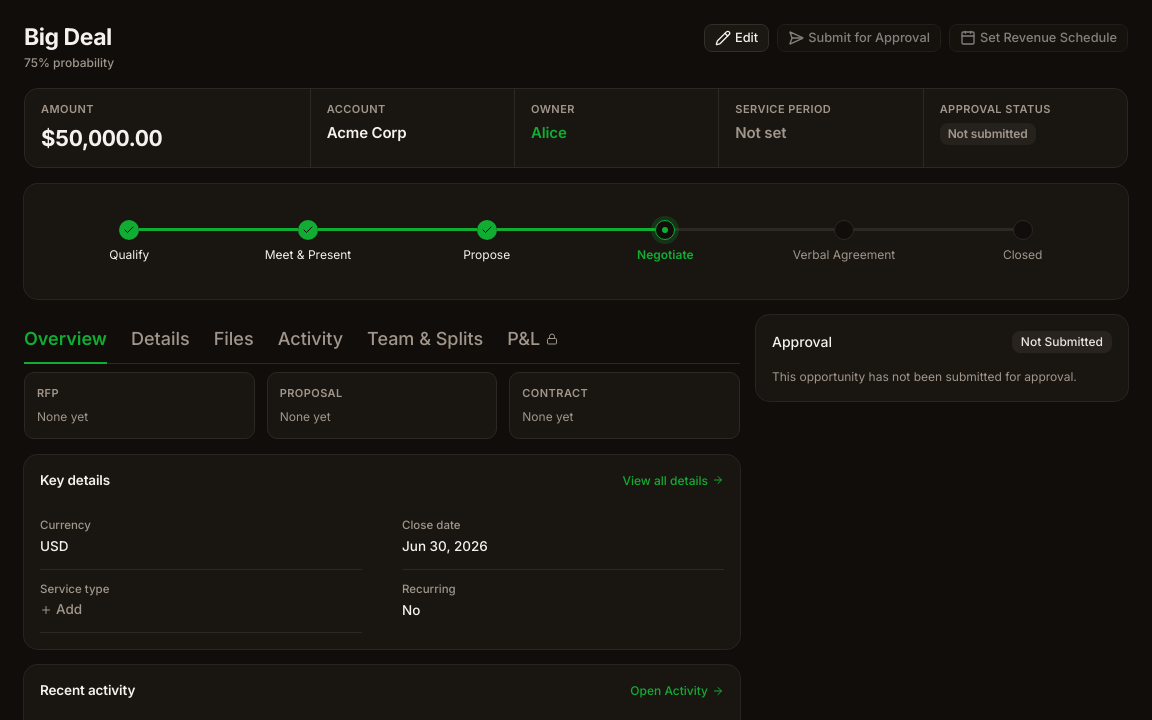
OpportunityDetailWrapper › details tab › renders the focused card headings
This screenshot has width=1152, height=720.
Click the tab "Details" at (160, 340), box 131,315 -> 190,364
(page scrolled)
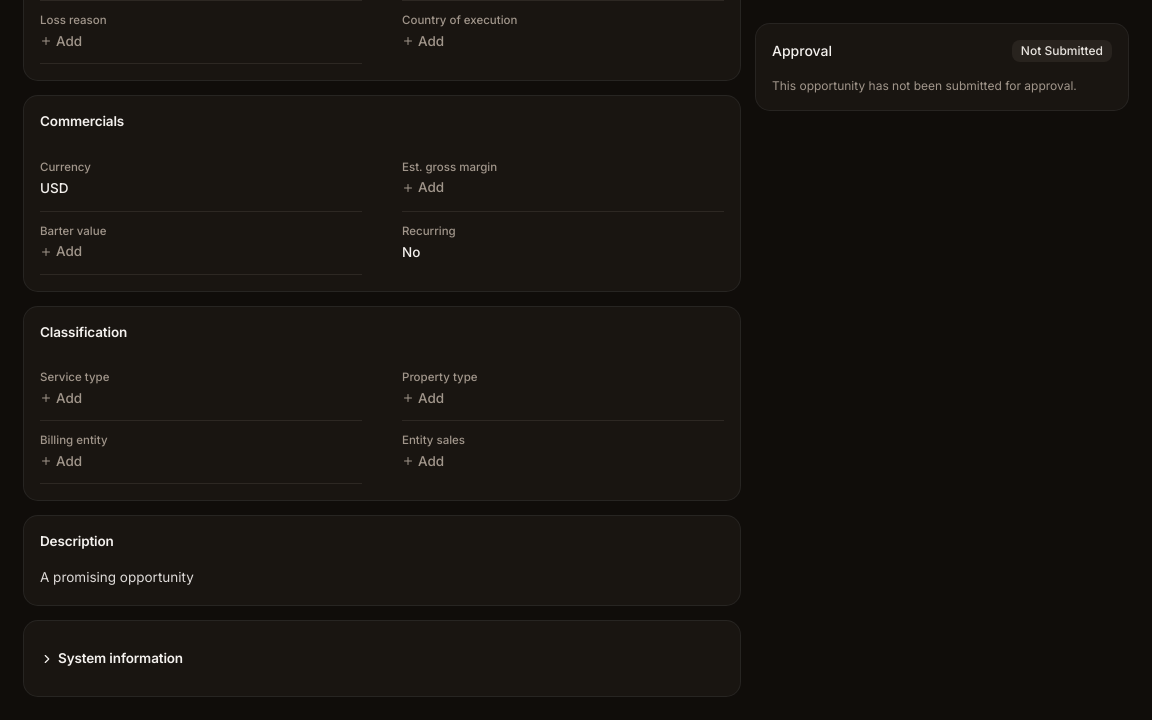
expect the text "Commercials" is shown: met, box 40,113 -> 124,129
expect the text "Classification" is shown: met, box 40,324 -> 127,340
expect the text "Description" is shown: met, box 40,533 -> 114,549
